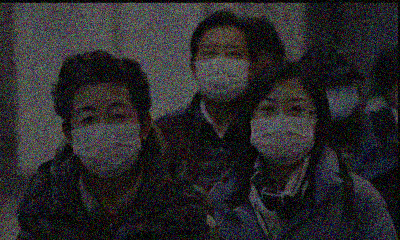with_mask: (66, 98, 143, 175), (250, 92, 316, 166), (193, 40, 251, 105), (323, 79, 360, 123)
